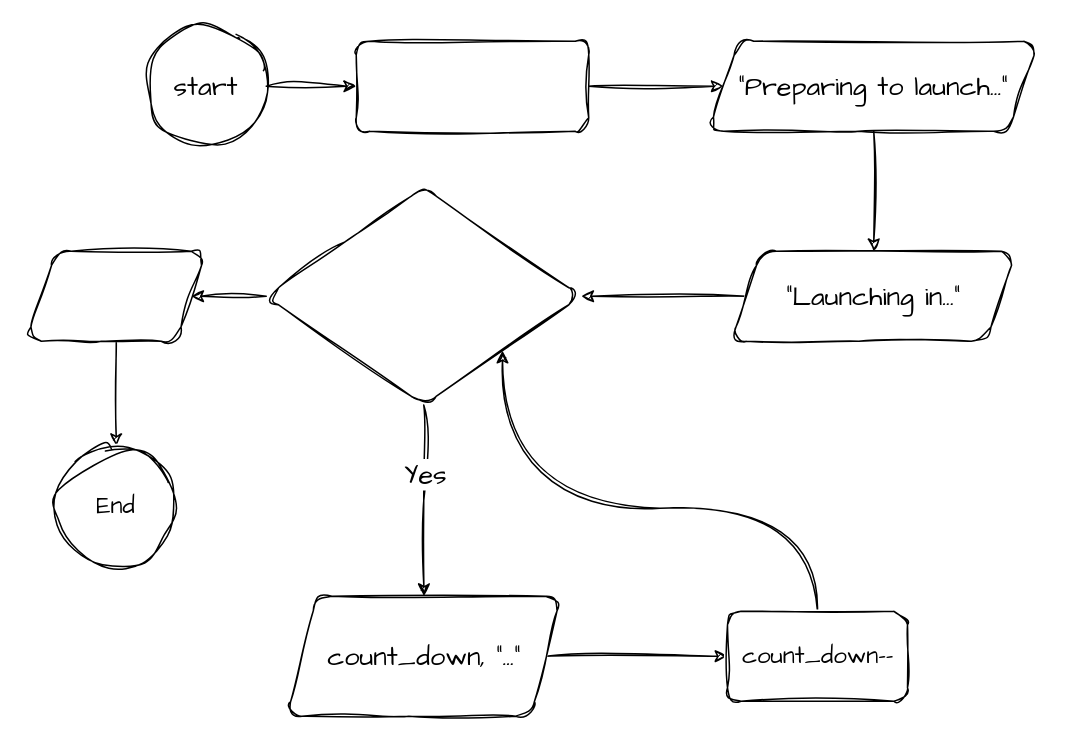
Image size: 1065x743. Some labels were removed from this diagram. The shapes that lost their labels are listed below. From the top down, each one's centre as x and y in pixels, then its label:
point 472,85: count_down = 5
point 115,295: "Liftoff!"
point 423,295: count_down >= 5?
